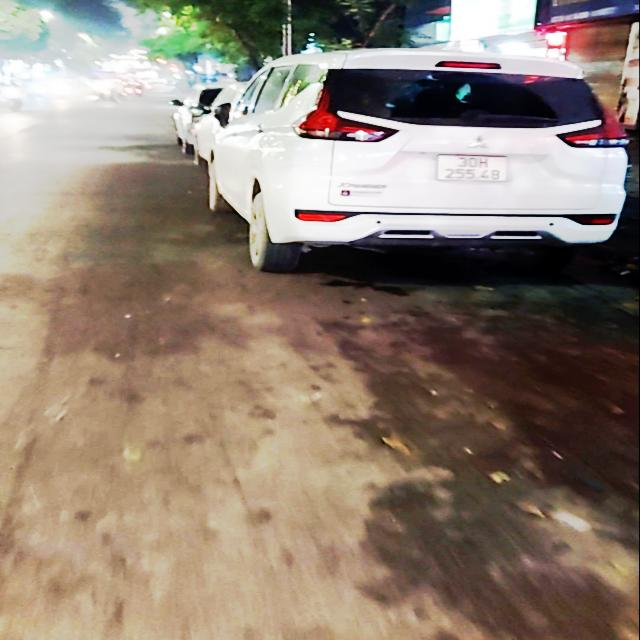license_plate: (433, 154, 514, 185)
